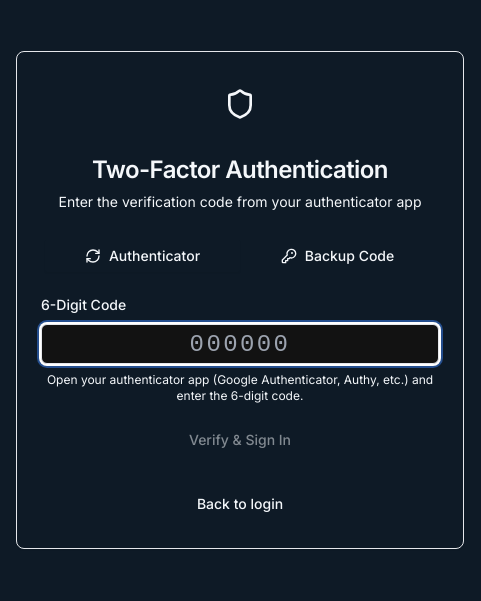
MFAVerificationPage › handles API error gracefully
Type "123456" into the field with placeholder "000000" at coordinates (240, 344), box [41,324,439,364]
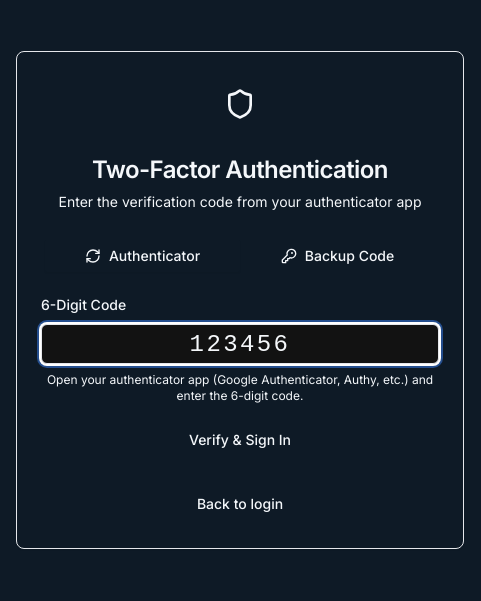
Click the button "Verify & Sign In" at coordinates (240, 440), box [41,420,439,460]
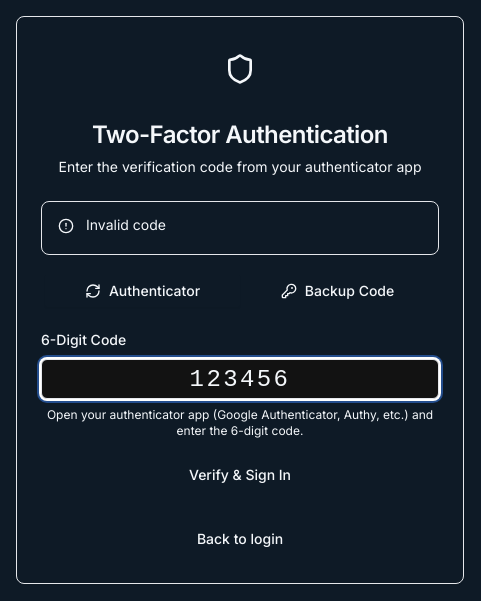
Expected: the text "Invalid code" is shown, [86,216,166,233]
